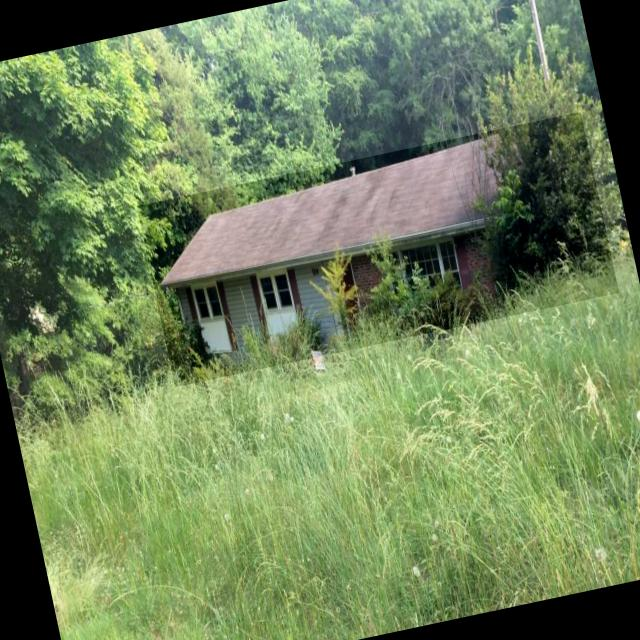House: (137, 111, 619, 386)
